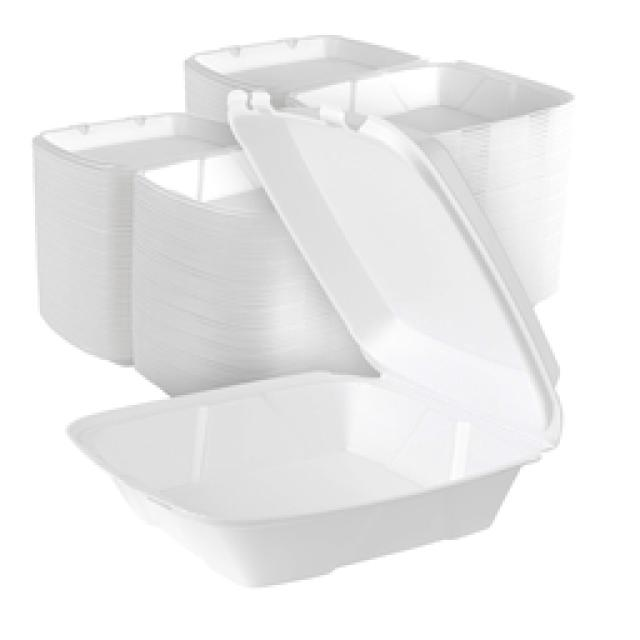inorganic: (238, 94, 553, 439), (67, 367, 544, 585), (183, 36, 421, 123), (306, 67, 460, 119)
